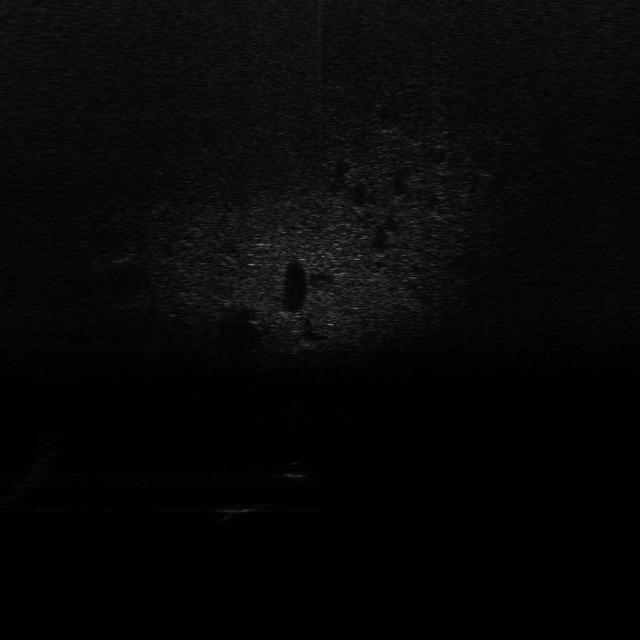ball: (280, 458, 310, 480)
square cage: (218, 498, 277, 522)
